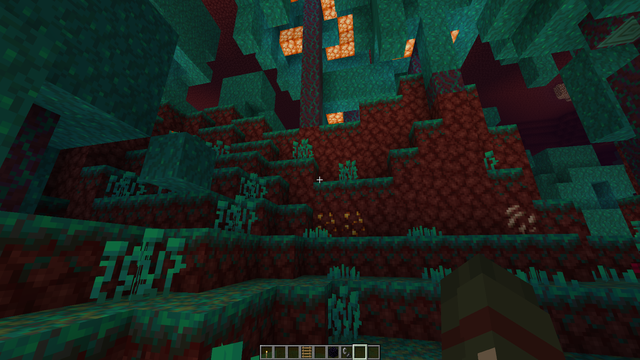nethergold: (312, 209, 370, 243)
quartz: (502, 204, 544, 240)
